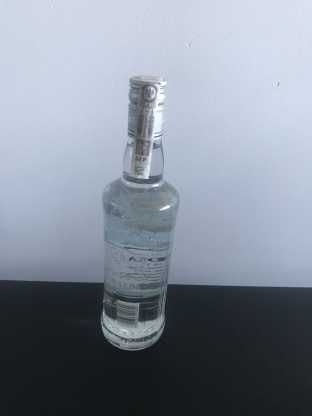nakretka: (124, 72, 169, 143)
